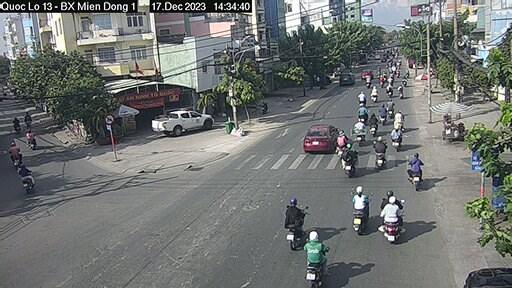car: (151, 110, 218, 140), (300, 123, 342, 154), (339, 70, 357, 87), (360, 68, 372, 79)
motorbike: (343, 189, 376, 234), (311, 239, 337, 287), (280, 211, 309, 252), (369, 137, 389, 170), (389, 198, 405, 239), (407, 159, 425, 187), (343, 148, 359, 176)
